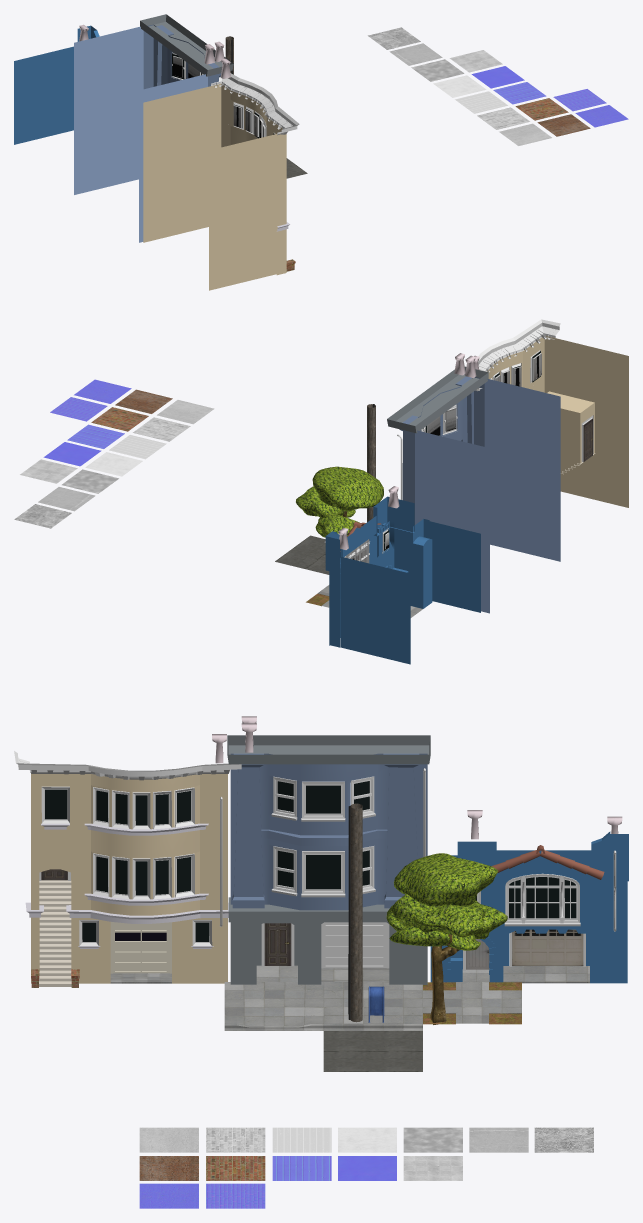
Rendered from env.glb.
The picture shows the model from 3 angles, top to bottom: view 1: azimuth 30°, elevation 25°; view 2: azimuth 150°, elevation 25°; view 3: azimuth 270°, elevation 25°; orthographic projection. The views are drawn at different scales.
Visible parts, largest first — view 1: sides_house1, sides_house2, sides_house3, midWall_house1, slabs_house2, midWall_house2, roofUnder_house1, tex_brick_normal_ref, tex_plaster_roughness_ref, tex_sidewalk1_roughness_ref, tex_woodPlanks_normal_ref, tex_brick_diffuse_ref (+12 smaller); view 2: sides_house2, sides_house3, sides_house1, wall_house3, midWall_house1, treeCanopy, midWall_house2, slabs_house2, roofUnder_house1, road, tex_brick_diffuse_ref, tex_brickSmall_normal_ref (+15 smaller); view 3: midWall_house2, midWall_house1, wall_house3, treeCanopy, slabs_house2, glass_house1, bottom_house1, bottom_house2, trim_house1, trim_house2, sidewalkCut, road (+33 smaller).
Part boxes in pixels (left/top/right/bottom): sides_house1: left=143, top=86, right=276, bottom=290; sides_house2: left=74, top=26, right=207, bottom=242; sides_house3: left=14, top=46, right=73, bottom=144; midWall_house1: left=211, top=83, right=286, bottom=229; slabs_house2: left=140, top=14, right=233, bottom=76; midWall_house2: left=143, top=24, right=221, bottom=89; roofUnder_house1: left=211, top=73, right=299, bottom=135; tex_brick_normal_ref: left=553, top=89, right=606, bottom=111; tex_plaster_roughness_ref: left=433, top=75, right=486, bottom=97; tex_sidewalk1_roughness_ref: left=449, top=50, right=502, bottom=72; tex_woodPlanks_normal_ref: left=493, top=82, right=546, bottom=104; tex_brick_diffuse_ref: left=515, top=98, right=568, bottom=120; sides_house2: left=415, top=379, right=560, bottom=613; sides_house3: left=340, top=521, right=480, bottom=664; sides_house1: left=555, top=338, right=628, bottom=507; wall_house3: left=325, top=496, right=432, bottom=647; midWall_house1: left=487, top=336, right=594, bottom=480; treeCanopy: left=296, top=466, right=383, bottom=537; midWall_house2: left=399, top=376, right=484, bottom=524; slabs_house2: left=387, top=366, right=488, bottom=433; roofUnder_house1: left=475, top=319, right=560, bottom=391; road: left=275, top=535, right=329, bottom=574; tex_brick_diffuse_ref: left=91, top=407, right=148, bottom=431; tex_brickSmall_normal_ref: left=74, top=379, right=131, bottom=403; midWall_house2: left=230, top=753, right=427, bottom=910; midWall_house1: left=31, top=774, right=227, bottom=915; wall_house3: left=430, top=831, right=628, bottom=983; treeCanopy: left=386, top=853, right=507, bottom=950; slabs_house2: left=227, top=735, right=430, bottom=922; glass_house1: left=45, top=789, right=209, bottom=941; bottom_house1: left=31, top=917, right=227, bottom=983; bottom_house2: left=230, top=922, right=427, bottom=984; trim_house1: left=39, top=786, right=212, bottom=945; trim_house2: left=261, top=776, right=375, bottom=966; sidewalkCut: left=224, top=982, right=323, bottom=1025; road: left=323, top=1031, right=422, bottom=1071.
Size of the model in its own units: 26.97 by 9.85 by 20.78.
Materials: 54 (29 with a texture image).
